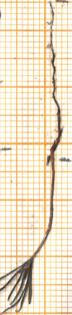flower: (0, 256, 46, 315)
root: (42, 0, 65, 160)
stem: (26, 159, 61, 256)
